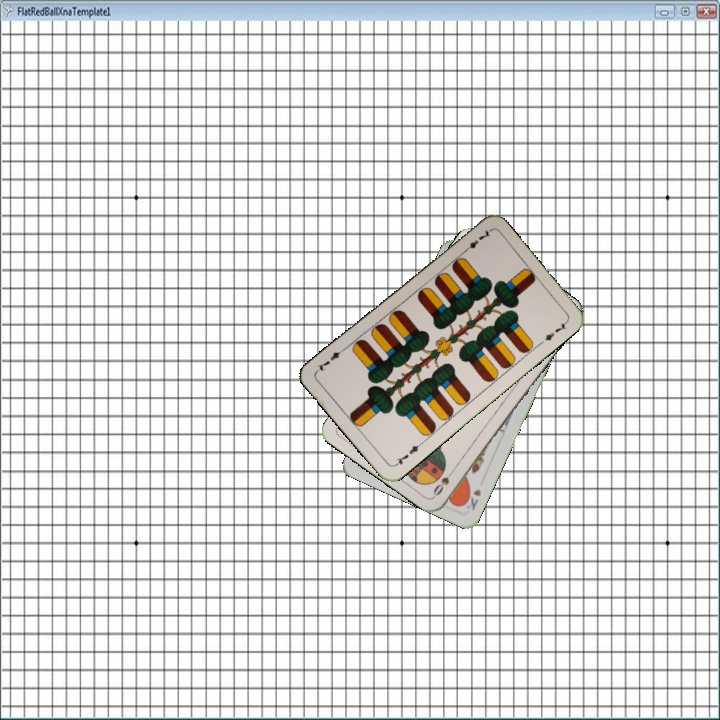E7: (391, 439, 425, 469), (459, 226, 493, 256)
HK: (458, 485, 483, 513)
SO: (429, 463, 458, 499)
